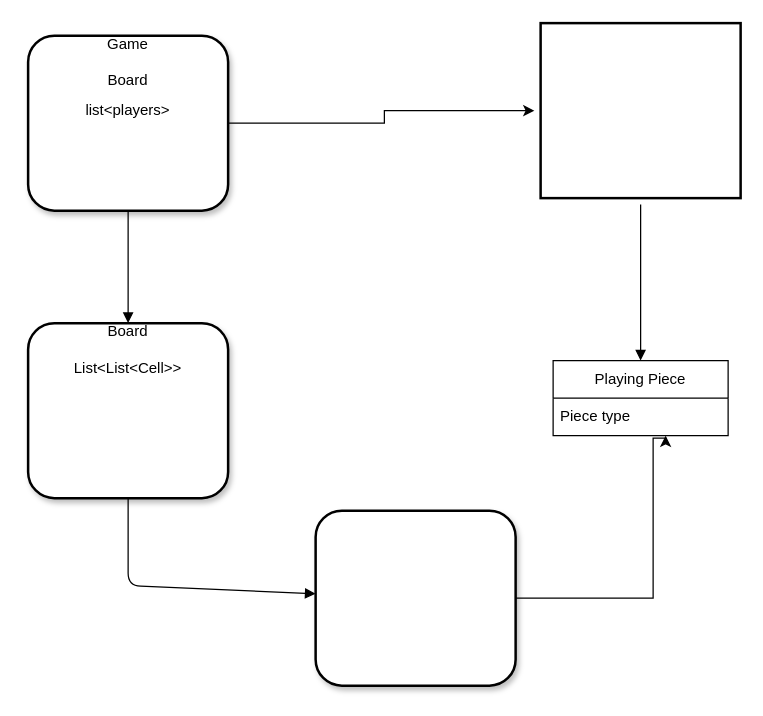
The diagram is 763 pixels wide and 716 high, and some of its shapes have lost their labels. Each missing label, with the centre of its shape:
"Cell piece" goes at pixel 416 599.
"Player piece name" goes at pixel 640 110.
